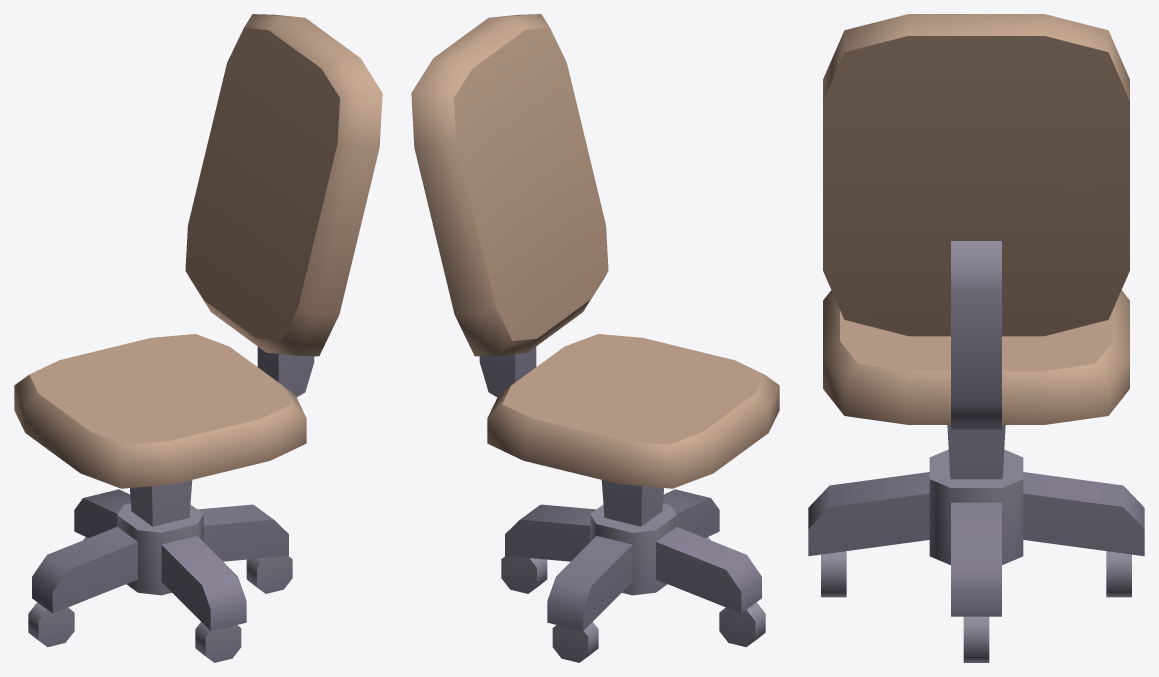
Rendered from desk-chair-high.glb.
The picture shows the model from 3 angles, left to right: view 1: azimuth 30°, elevation 25°; view 2: azimuth 150°, elevation 25°; view 3: azimuth 270°, elevation 25°; orthographic projection. The views are drawn at different scales.
Visible parts, largest first — view 1: desk-chair-high; view 2: desk-chair-high; view 3: desk-chair-high.
Boxes of the visible parts, box(x1,y1,x2,y2) form: desk-chair-high: box(14, 14, 382, 662); desk-chair-high: box(411, 14, 779, 662); desk-chair-high: box(808, 14, 1144, 662).
Bounding box in the file's own units: 0.501 × 0.8648 × 0.395.
